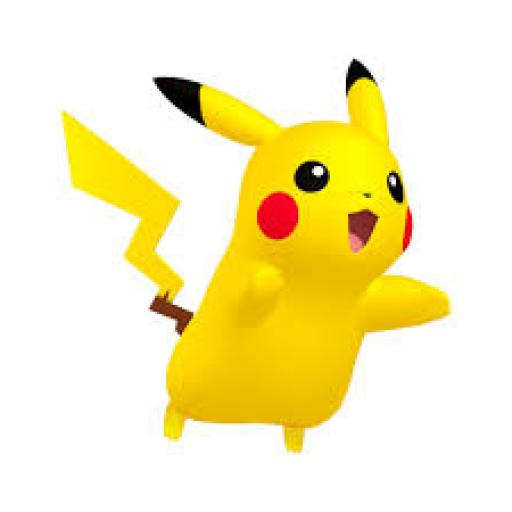Pikachu: (62, 57, 450, 453)
